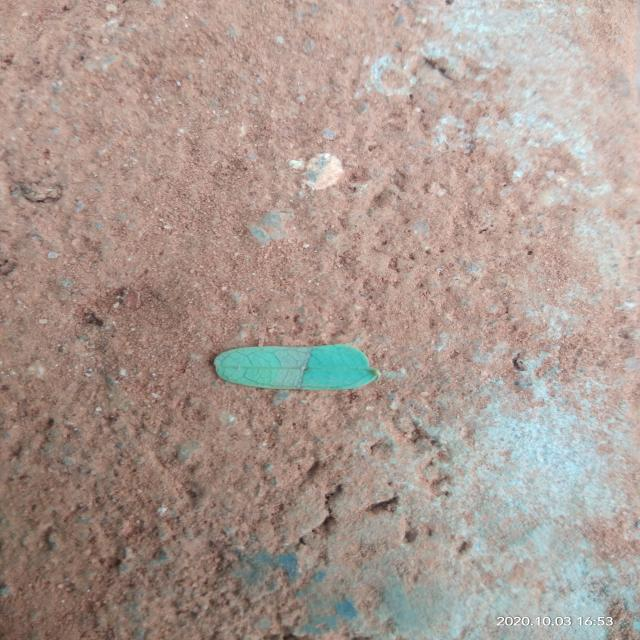tamarind: (215, 344, 380, 390)
